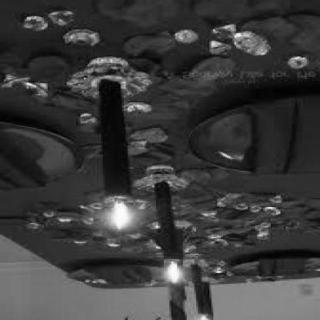Fire: (94, 196, 144, 237)
